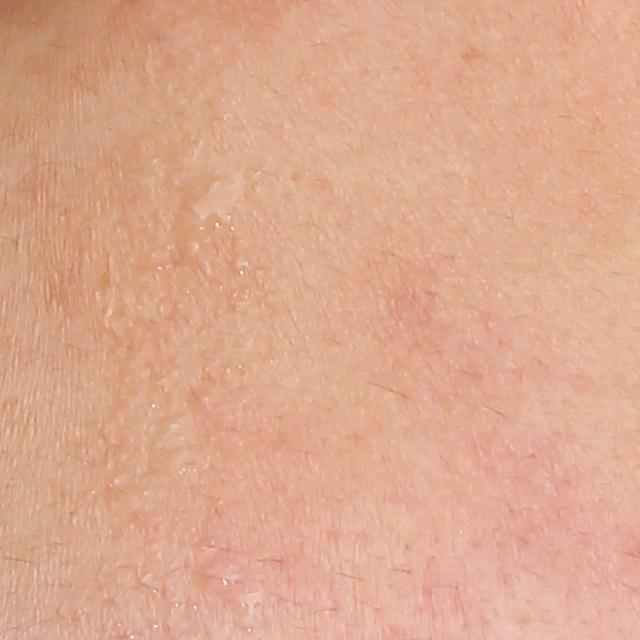other: (169, 170, 253, 254), (189, 549, 258, 601)
